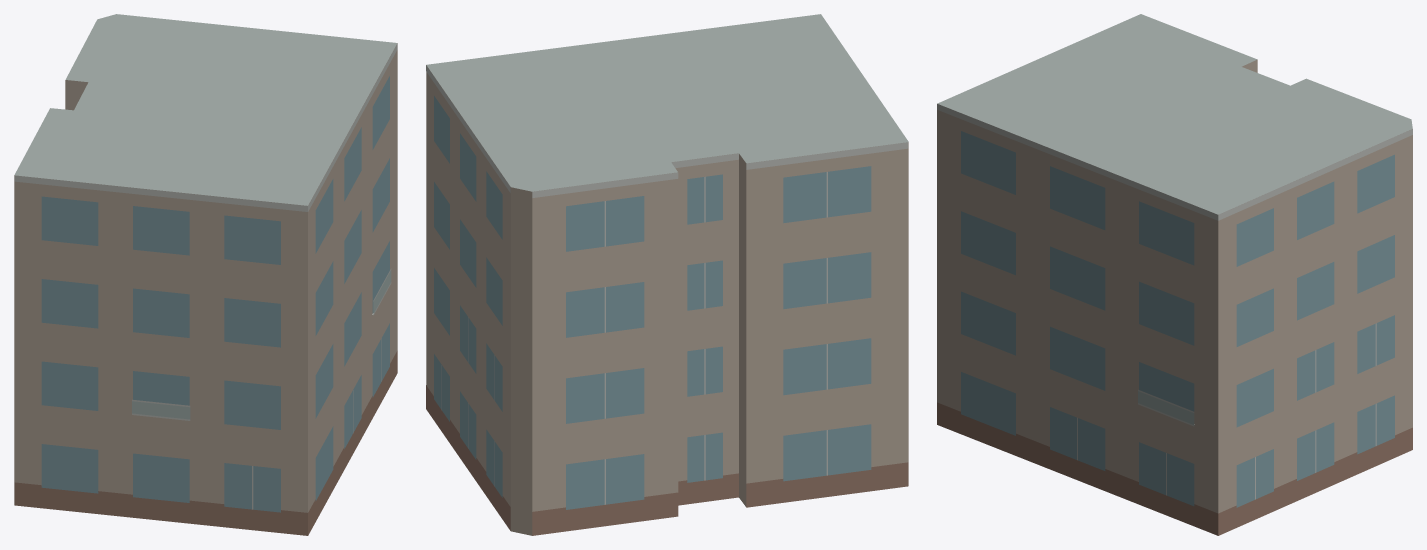
Rendered from survey-upis-32662463.glb.
The picture shows the model from 3 angles, left to right: view 1: azimuth 30°, elevation 25°; view 2: azimuth 150°, elevation 25°; view 3: azimuth 270°, elevation 25°; orthographic projection. The views are drawn at different scales.
Parts seen in each view (by area): view 1: survey-upis-32662463.tmp; view 2: survey-upis-32662463.tmp; view 3: survey-upis-32662463.tmp.
Boxes of the visible parts, x1,y1,x2,y2 form: survey-upis-32662463.tmp: (14,14,397,535); survey-upis-32662463.tmp: (426,14,908,535); survey-upis-32662463.tmp: (937,14,1412,535).
Bounding box in the file's own units: 17.34 × 12.93 × 17.36.
